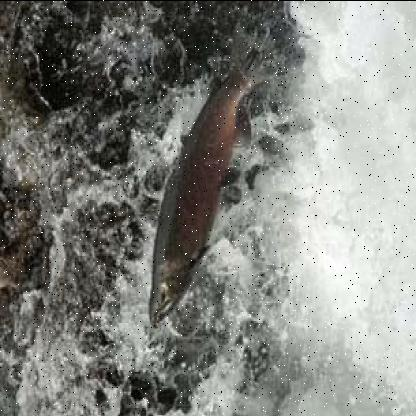fish: (147, 15, 269, 329)
